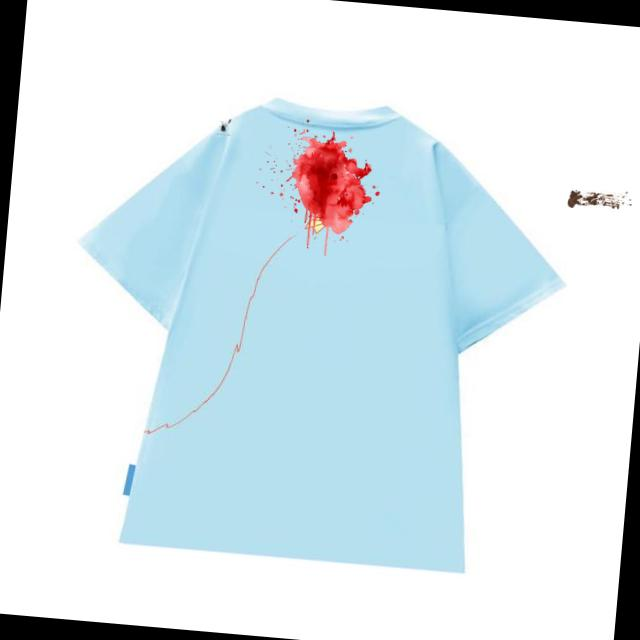stain: (264, 130, 373, 248), (210, 115, 230, 132)
